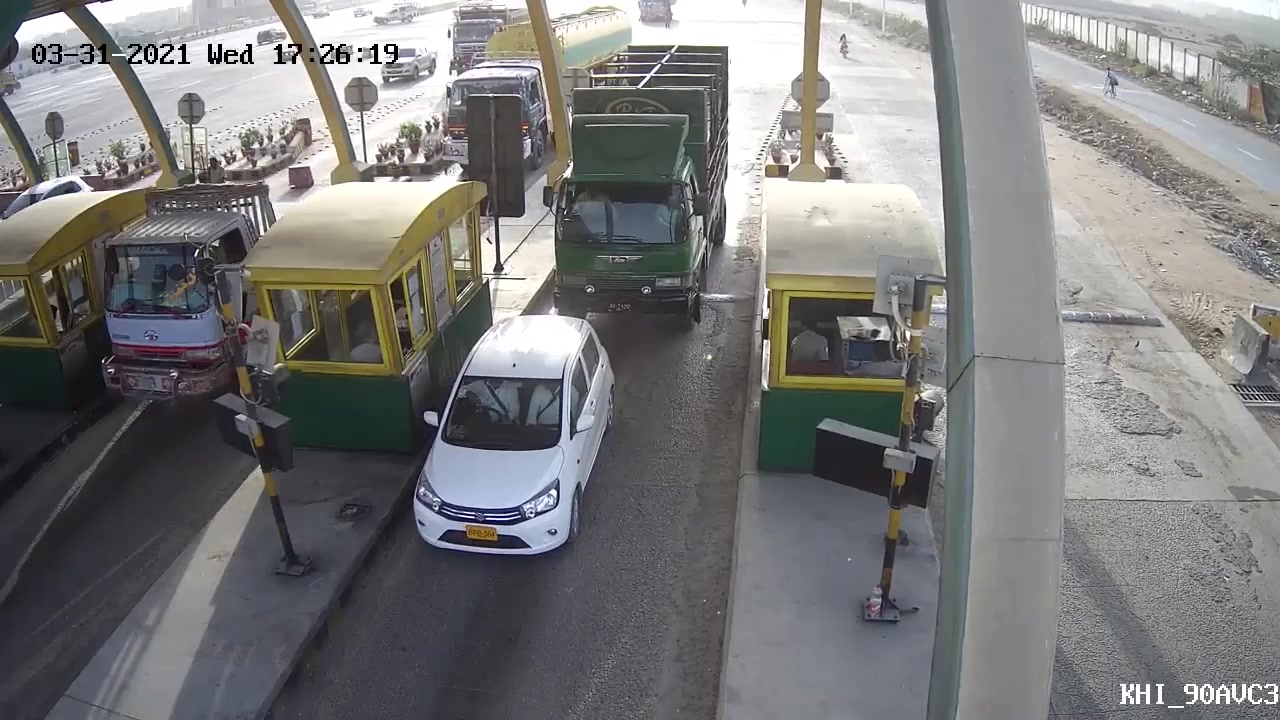F1: (401, 304, 625, 557)
F5: (542, 35, 740, 322)
